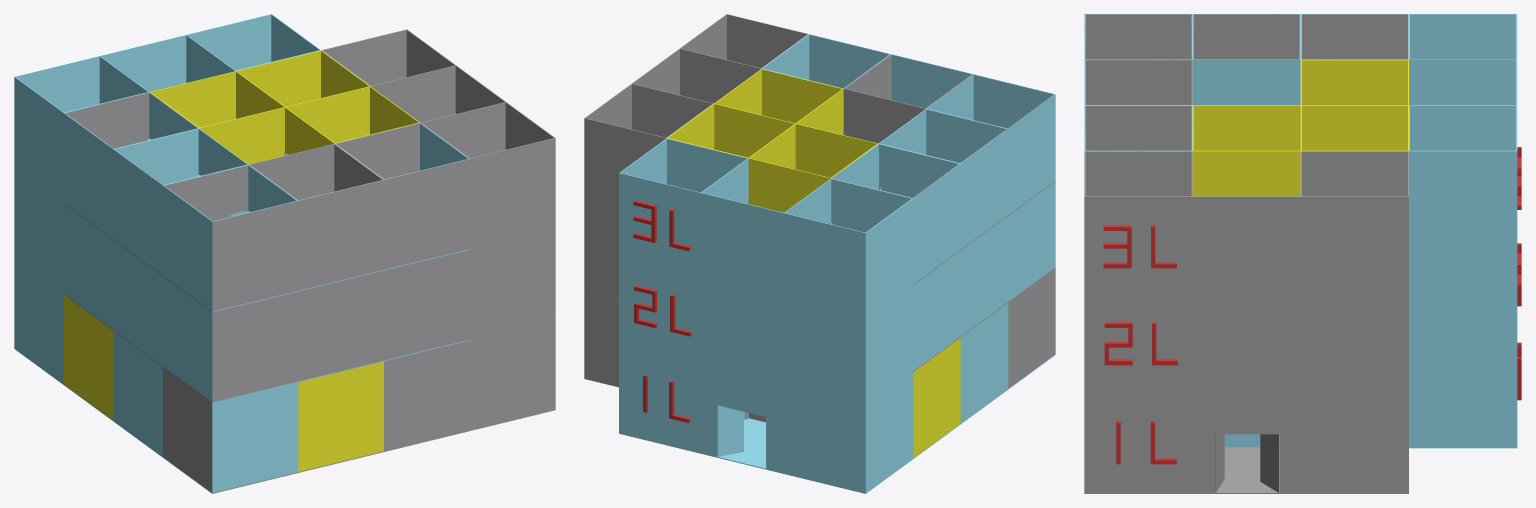
The model's file is 第十三组.glb.
3 renders of one model, left to right at view 1: azimuth 30°, elevation 25°; view 2: azimuth 150°, elevation 25°; view 3: azimuth 270°, elevation 25°, orthographic. The views are drawn at different scales.
Bounding box in the file's own units: 0.0202 × 0.0151 × 0.0202.
